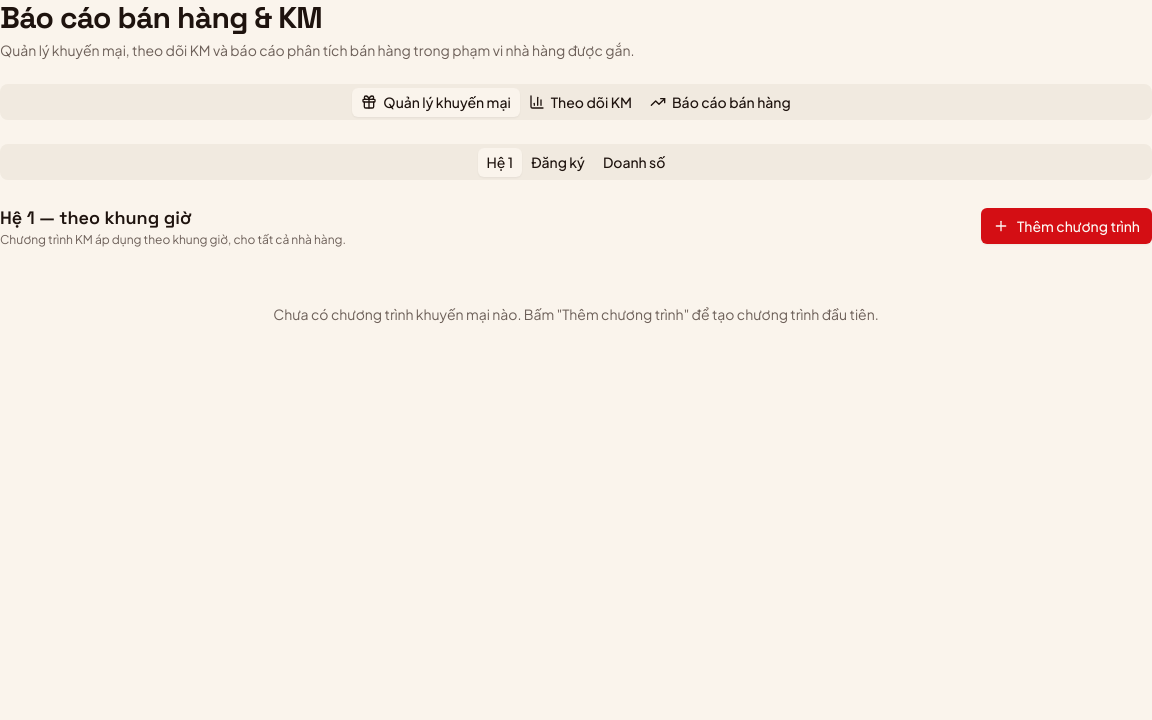
Test: SalesPromoReportingPage merged sales + promo role › renders the sales analytics content when the analytics tab is selected
Click the tab with test id "sales_reporting.tab.analytics" at (720,102), box [641, 88, 800, 116]
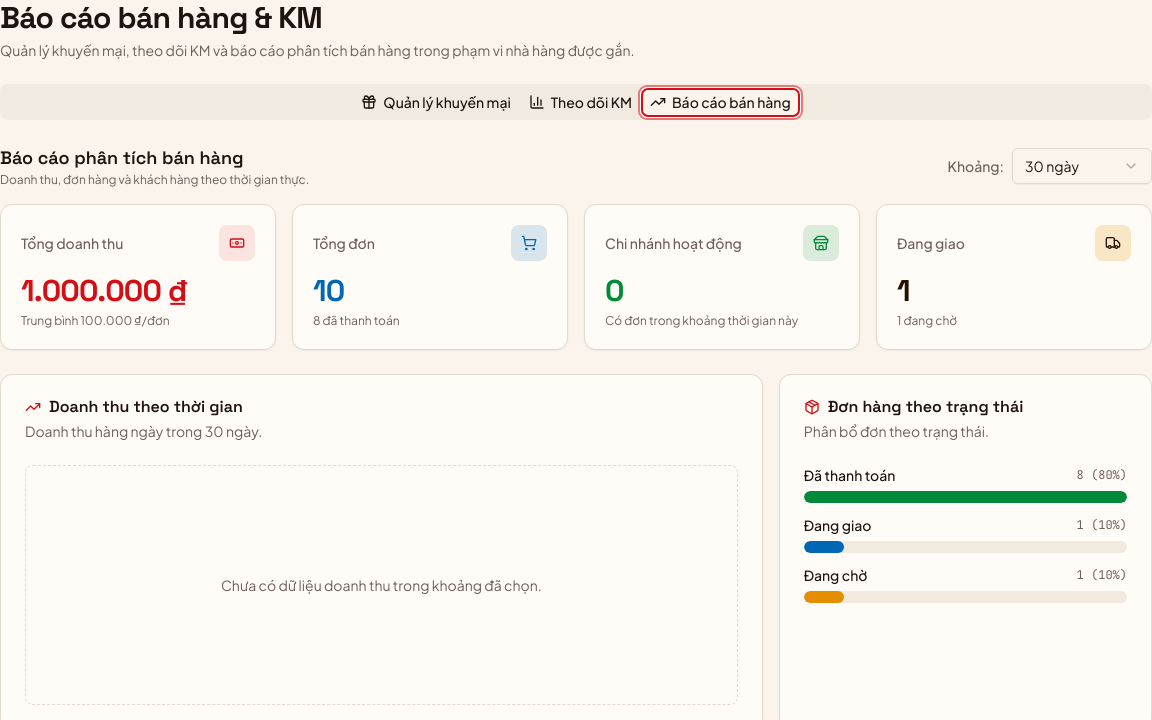
Result: the element with test id "sales_reporting.analytics.stat.total_revenue" is shown at [0, 204, 276, 350]
